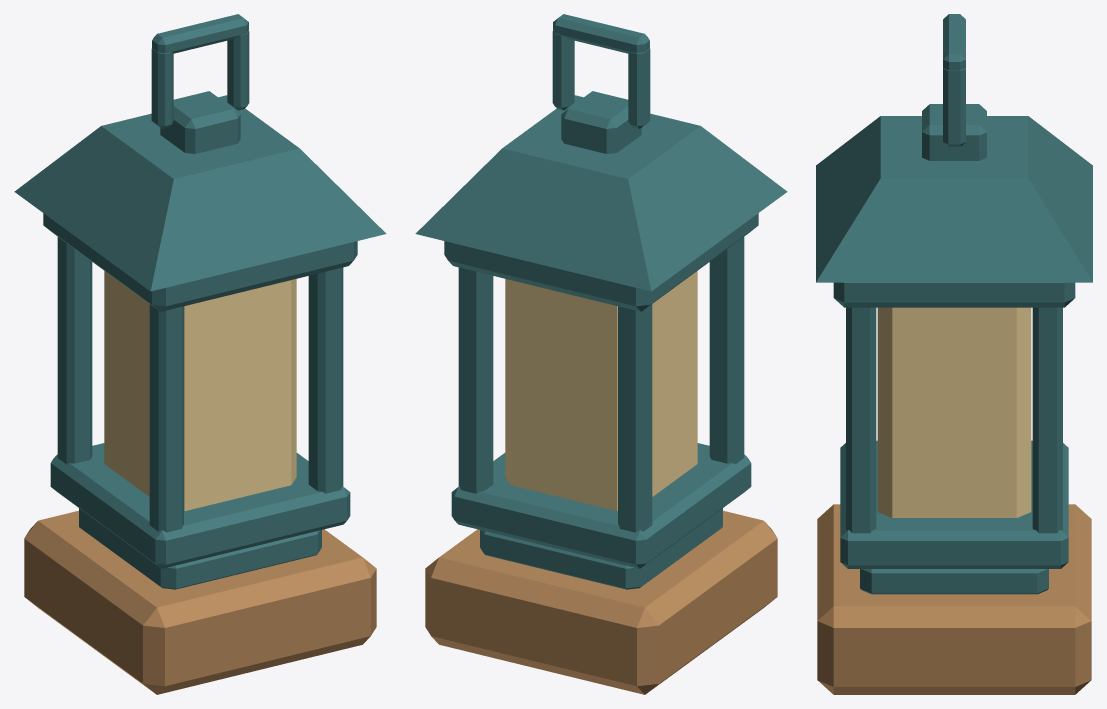
The picture shows the model from 3 angles, left to right: view 1: azimuth 30°, elevation 25°; view 2: azimuth 150°, elevation 25°; view 3: azimuth 270°, elevation 25°; orthographic projection.
Parts seen in each view (by area): view 1: harbor-lantern-01; view 2: harbor-lantern-01; view 3: harbor-lantern-01.
Part boxes in pixels (x1=…): harbor-lantern-01: x1=14, y1=14, x2=386, y2=694; harbor-lantern-01: x1=415, y1=14, x2=787, y2=694; harbor-lantern-01: x1=816, y1=14, x2=1092, y2=694.
Bounding box in the file's own units: 0.4243 × 1.03 × 0.4243.
